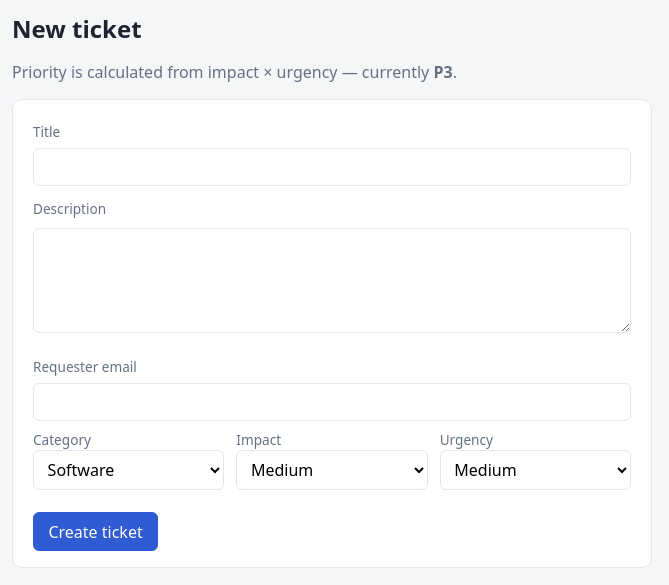
Test: NewTicketPage › previews priority from impact × urgency and submits
Later steps or results of the test are not shown.
Expected: the text with test id "priority-preview" reads "P3", x1=433 y1=61 x2=453 y2=83
Step 1. Select "High" in the dropdown labelled "Impact" → (332, 470), box x1=236 y1=450 x2=428 y2=490
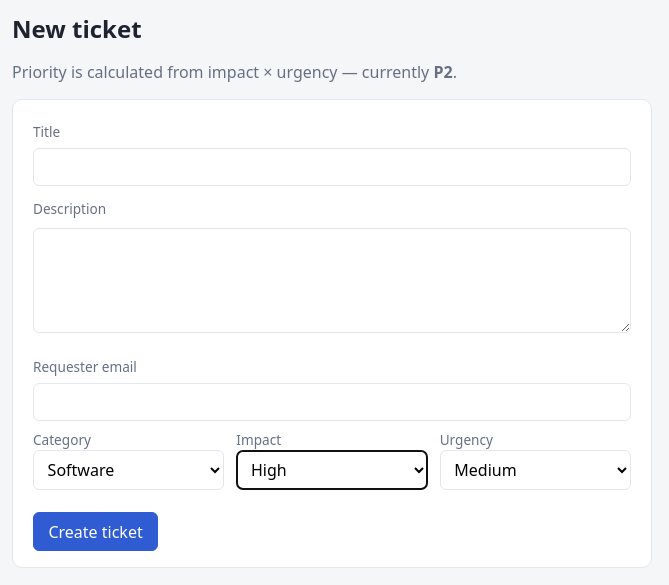
Step 2. Select "High" in the dropdown labelled "Urgency" → (535, 470), box x1=440 y1=450 x2=631 y2=490
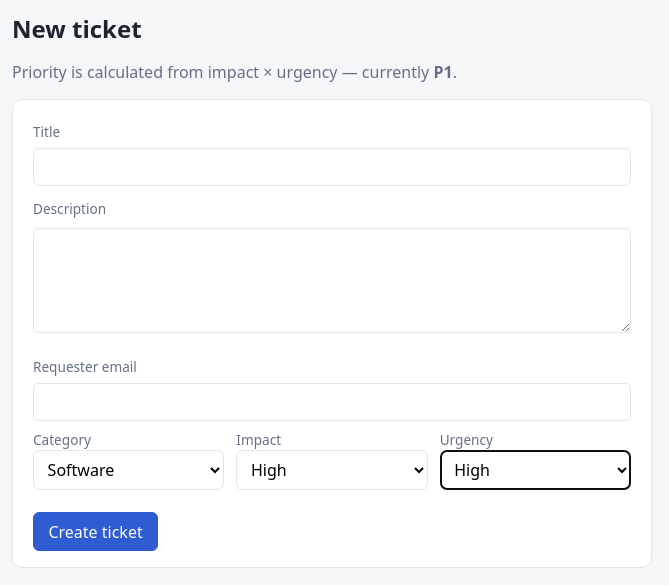
Expected: the text with test id "priority-preview" reads "P1", x1=433 y1=61 x2=453 y2=83
